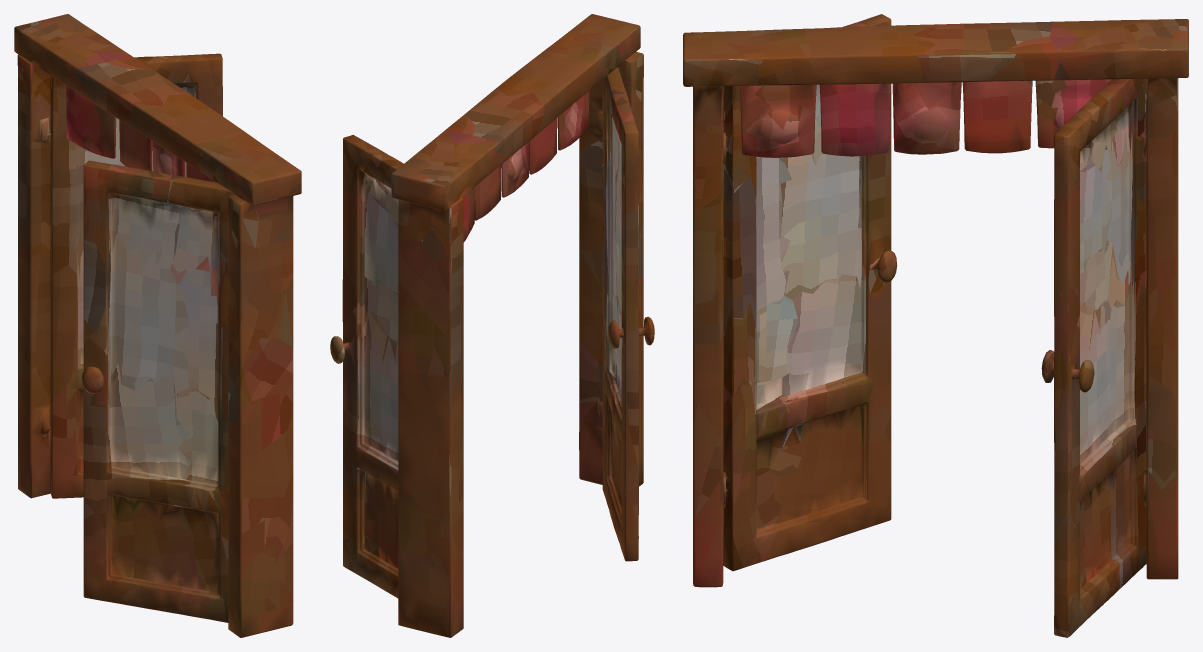
Rendered from KR_사물_s1_entrance_door_open.glb.
The picture shows the model from 3 angles, left to right: view 1: azimuth 30°, elevation 25°; view 2: azimuth 150°, elevation 25°; view 3: azimuth 270°, elevation 25°; orthographic projection. The views are drawn at different scales.
Parts seen in each view (by area): view 1: tripo_node_4cb0ec8f-1260-40d3-bc16-478e6c582b63; view 2: tripo_node_4cb0ec8f-1260-40d3-bc16-478e6c582b63; view 3: tripo_node_4cb0ec8f-1260-40d3-bc16-478e6c582b63.
Part boxes in pixels (bbox=[...]): tripo_node_4cb0ec8f-1260-40d3-bc16-478e6c582b63: bbox=[14, 14, 301, 637]; tripo_node_4cb0ec8f-1260-40d3-bc16-478e6c582b63: bbox=[330, 14, 654, 637]; tripo_node_4cb0ec8f-1260-40d3-bc16-478e6c582b63: bbox=[683, 14, 1188, 637].
Bounding box in the file's own units: 0.53 × 0.9999 × 0.8609.
Materials: 1 (1 with a texture image).
